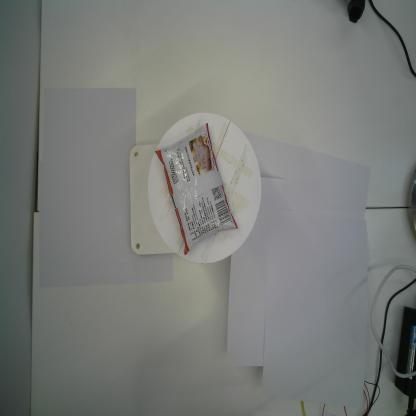Seasoner: (154, 121, 240, 257)
